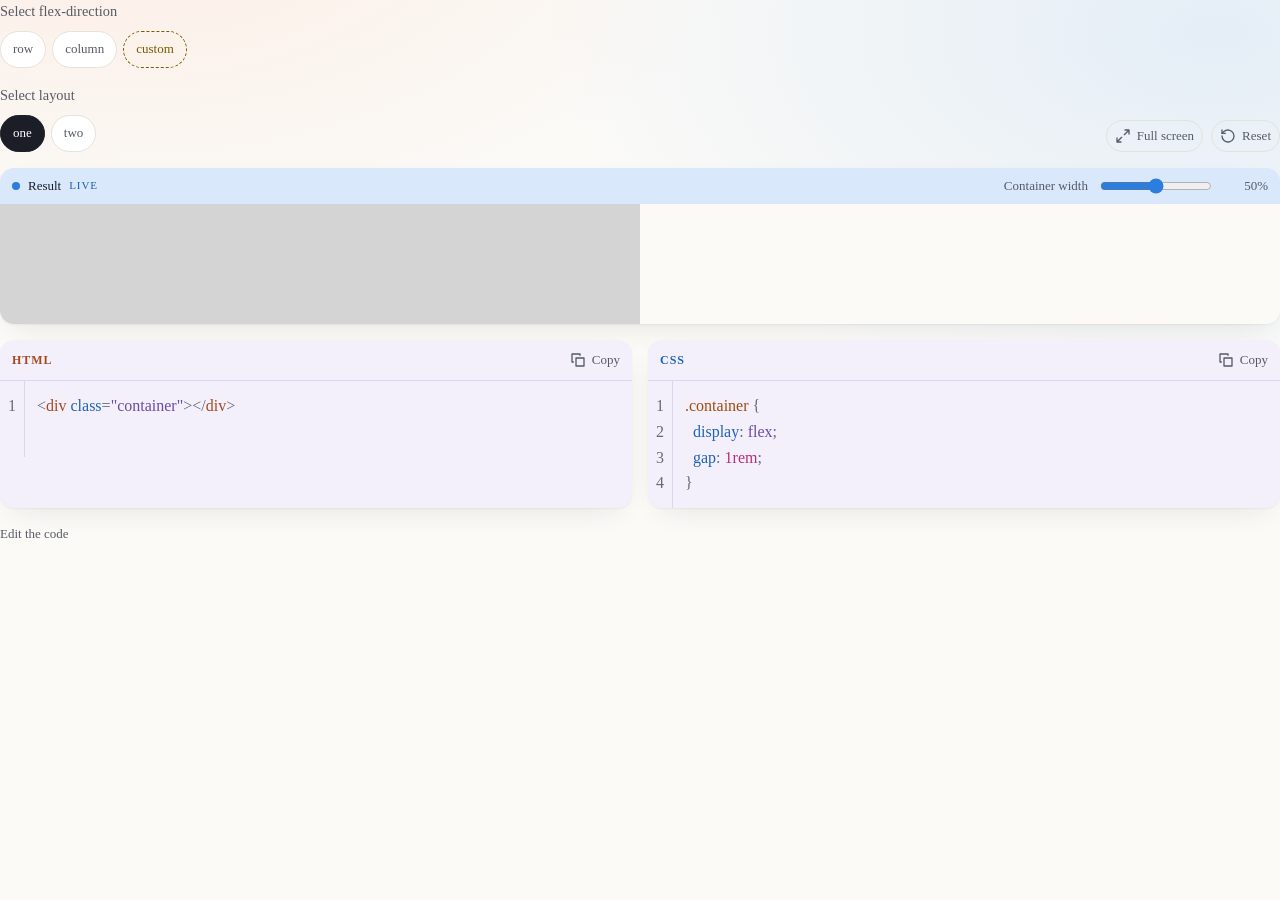
Scenario: Playground selectors › ignores a preset value that does not exist
The width and height of the screenshot is (1280, 900).
Click the radio button labelled "two": (74,133) [51,115,96,152]
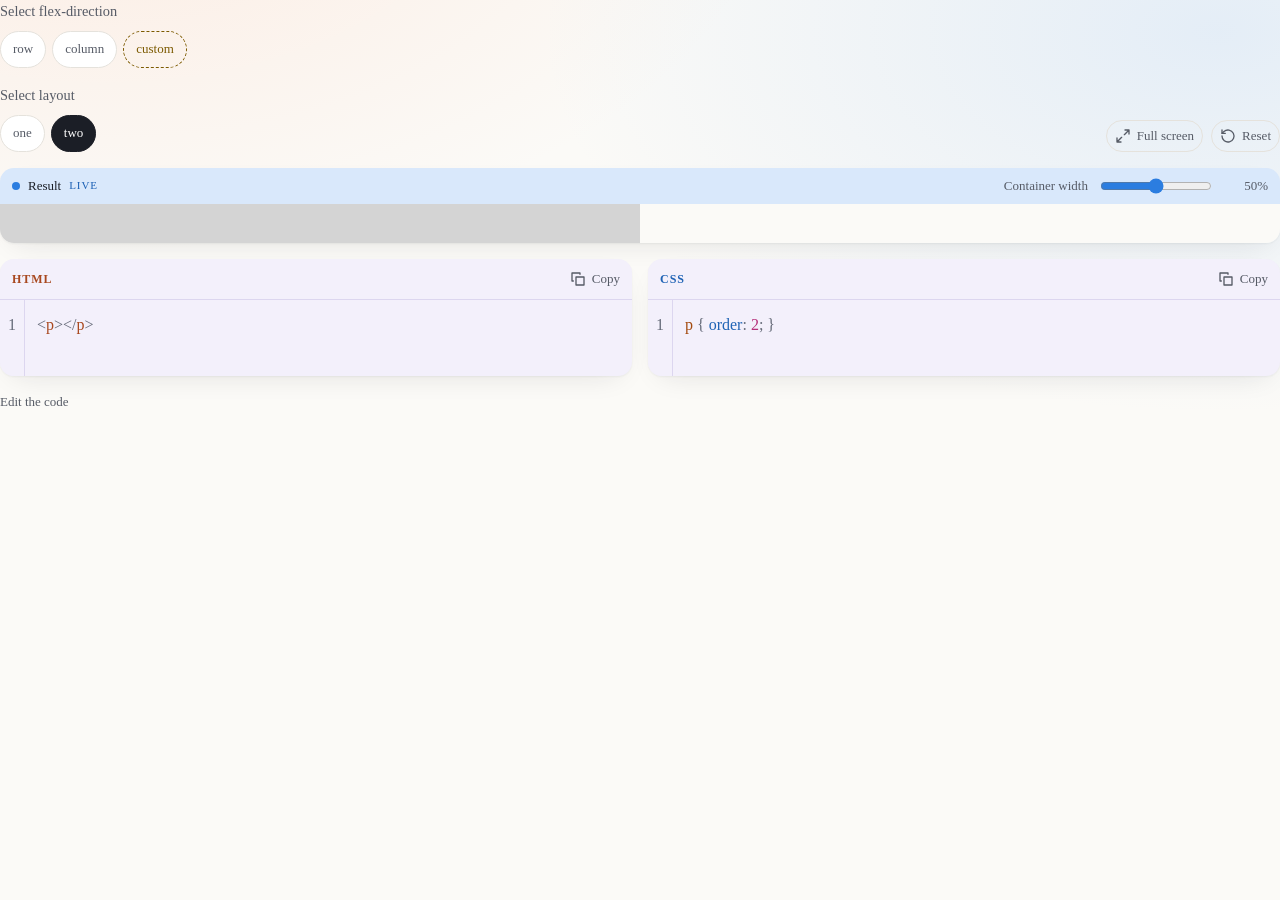
Expected: the text box named "CSS editor" holds "p { order: 2; }", [673,300,1279,376]
